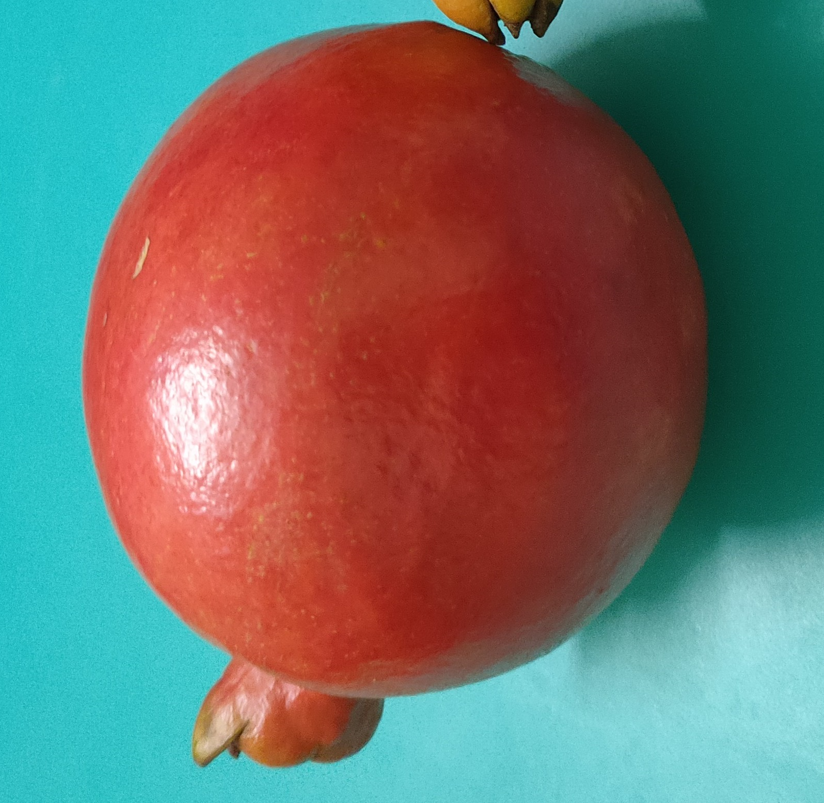pomegranate_A: (81, 23, 710, 770)
